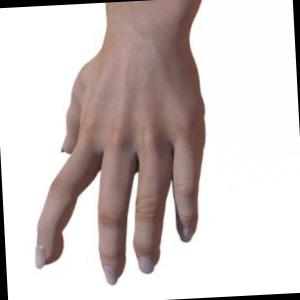paper: (37, 0, 205, 284)
